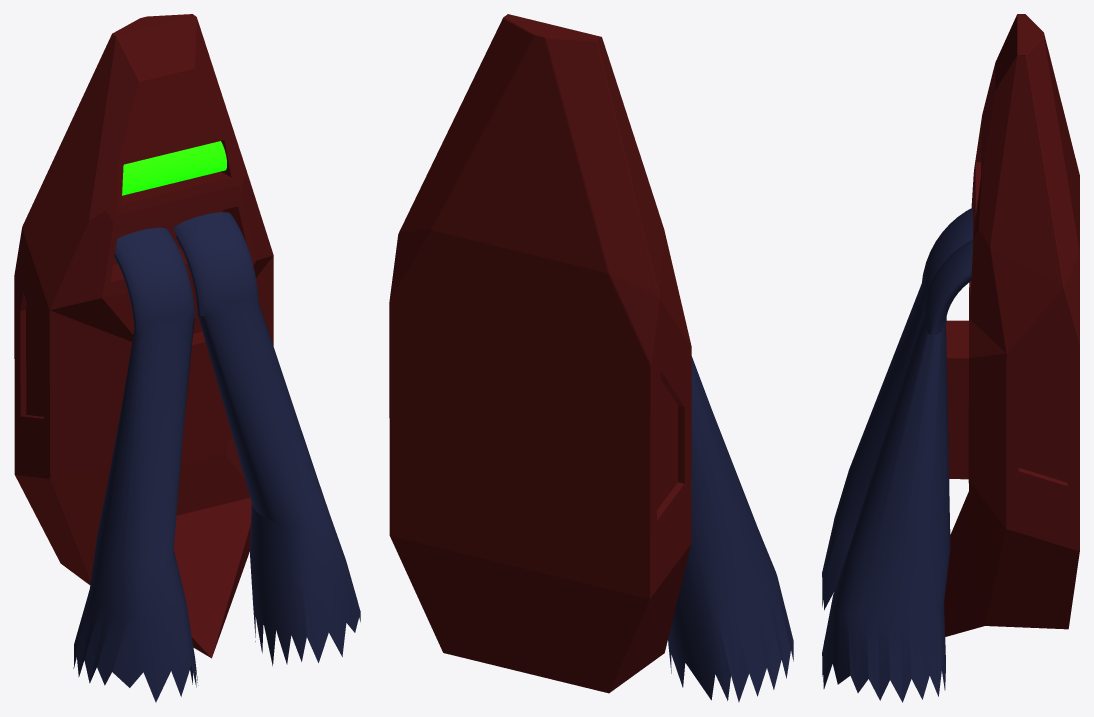
Rendered from jetpack.glb.
3 renders of one model, left to right at view 1: azimuth 30°, elevation 25°; view 2: azimuth 150°, elevation 25°; view 3: azimuth 270°, elevation 25°, orthographic. The views are drawn at different scales.
Parts seen in each view (by area): view 1: Chassis, Thust.001, Thust.002, Energy.Status; view 2: Chassis, Thust.001; view 3: Chassis, Thust.002, Thust.001.
Boxes of the visible parts, x1,y1,x2,y2 form: Chassis: [14, 14, 273, 658]; Thust.001: [73, 227, 198, 702]; Thust.002: [173, 212, 360, 666]; Energy.Status: [122, 141, 226, 195]; Chassis: [389, 14, 691, 693]; Thust.001: [668, 356, 793, 702]; Chassis: [944, 14, 1079, 636]; Thust.002: [822, 239, 972, 702]; Thust.001: [822, 207, 972, 610].
Bounding box in the file's own units: 1.67 × 3.55 × 1.35.
